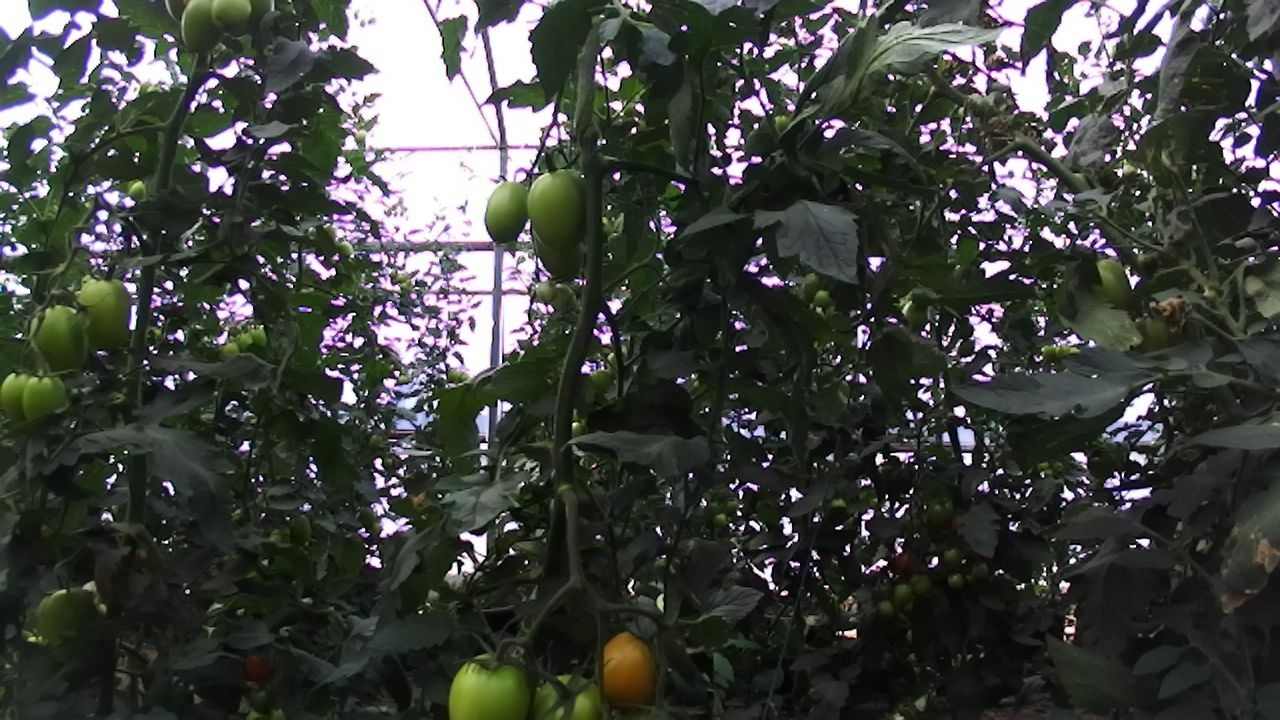tomato: (432, 639, 559, 720), (22, 575, 120, 678), (586, 616, 677, 720), (519, 152, 605, 262), (514, 651, 623, 720), (73, 257, 144, 359), (22, 294, 100, 385), (523, 207, 596, 295), (477, 174, 540, 254), (1079, 247, 1146, 316), (16, 363, 74, 433), (1126, 301, 1182, 371), (173, 0, 229, 58), (0, 361, 44, 429), (199, 0, 256, 50), (893, 289, 939, 340), (546, 277, 586, 323), (239, 645, 279, 688), (922, 492, 963, 533), (283, 507, 318, 551), (888, 544, 921, 581), (120, 173, 155, 207), (962, 554, 998, 587), (528, 275, 562, 308), (798, 266, 824, 307), (907, 566, 936, 600), (888, 579, 916, 611), (938, 540, 965, 572), (354, 500, 381, 531), (808, 284, 837, 312), (943, 565, 969, 595), (768, 108, 794, 138), (333, 235, 359, 263), (719, 490, 744, 519), (216, 339, 244, 363), (246, 321, 270, 349), (874, 594, 899, 620), (231, 327, 255, 353), (350, 124, 374, 146), (1038, 341, 1060, 364), (711, 509, 730, 529), (1050, 342, 1068, 361)
